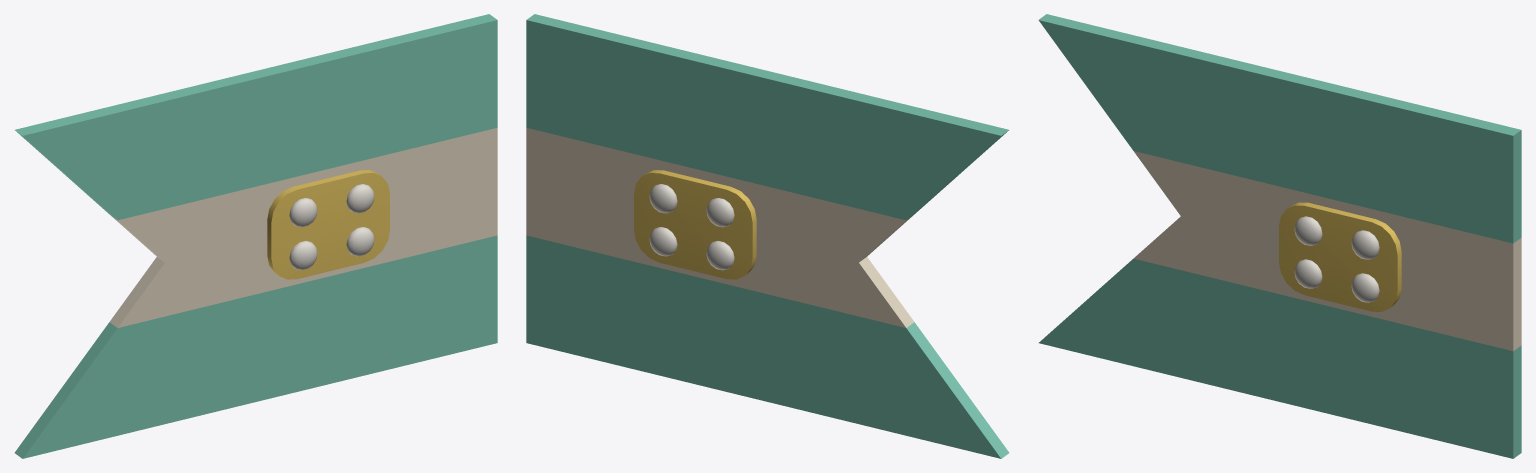
File: Flag_Cloth_S.fbx
3 views of the same model, side by side, from view 1: azimuth 30°, elevation 25°; view 2: azimuth 150°, elevation 25°; view 3: azimuth 330°, elevation 25° (orthographic).
Parts seen in each view (by area): view 1: Flag_Cloth_S; view 2: Flag_Cloth_S; view 3: Flag_Cloth_S.
Boxes of the visible parts, box(x1,y1,x2,y2) form: Flag_Cloth_S: box(14, 14, 497, 458); Flag_Cloth_S: box(526, 14, 1009, 458); Flag_Cloth_S: box(1038, 14, 1521, 458).
Bounding box in the file's own units: 0.2 × 0.13 × 0.0199.
